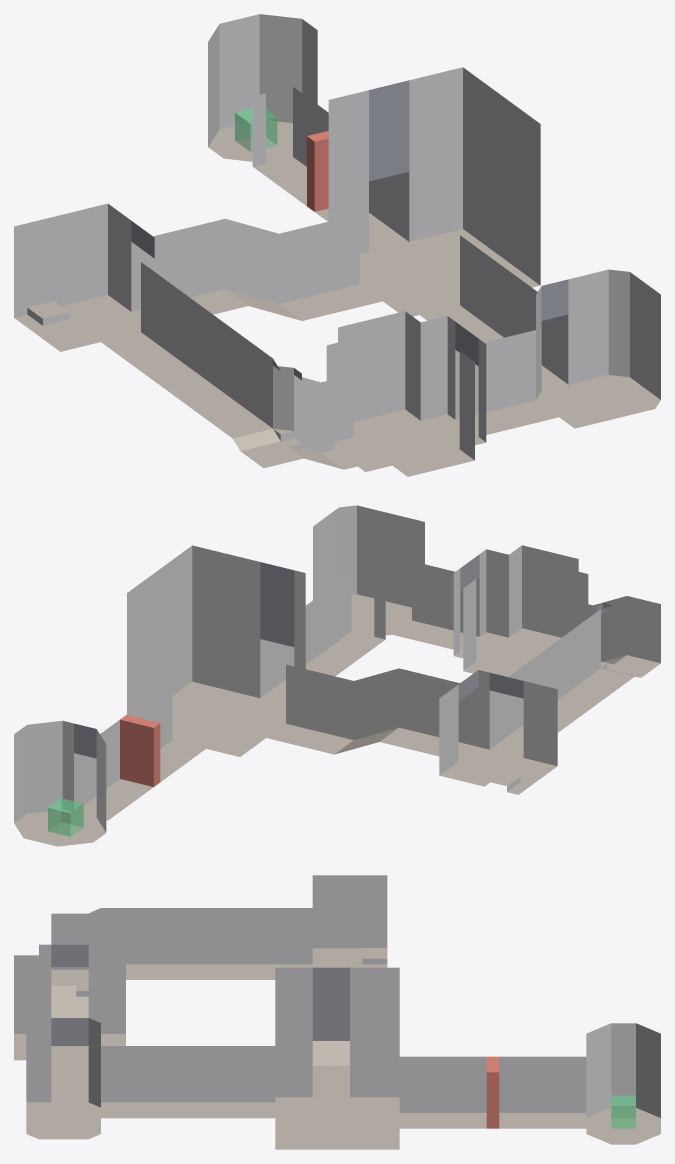
File: habitat_07.glb
3 views of the same model, one above another, from view 1: azimuth 30°, elevation 25°; view 2: azimuth 150°, elevation 25°; view 3: azimuth 270°, elevation 25° (orthographic). The views are drawn at different scales.
Parts seen in each view (by area): view 1: corridor:3, room:1, corridor:2, room:0, room:3, room:2, corridor:0, corridor:1, entities; view 2: corridor:3, room:1, corridor:2, room:0, room:2, room:3, corridor:0, corridor:1, entities; view 3: corridor:3, room:1, corridor:1, corridor:0, room:2, room:3, room:0, corridor:2, entities.
Boxes of the visible parts, x1,y1,x2,y2 form: corridor:3: [101, 262, 558, 476]; room:1: [328, 67, 540, 316]; corridor:2: [131, 214, 382, 320]; room:0: [536, 269, 660, 428]; room:3: [14, 203, 154, 351]; room:2: [208, 14, 317, 163]; corridor:0: [420, 235, 568, 390]; corridor:1: [252, 87, 409, 251]; entities: [235, 108, 328, 211]; corridor:3: [392, 545, 660, 757]; room:1: [127, 545, 305, 756]; corridor:2: [267, 664, 478, 760]; room:0: [313, 505, 424, 636]; room:2: [14, 720, 106, 846]; room:3: [439, 670, 557, 794]; corridor:0: [260, 572, 385, 704]; corridor:1: [74, 681, 205, 820]; entities: [48, 715, 160, 836]; corridor:3: [14, 908, 312, 1102]; room:1: [275, 967, 399, 1149]; corridor:1: [399, 1056, 586, 1128]; corridor:0: [101, 1046, 275, 1118]; room:2: [586, 1023, 660, 1144]; room:3: [312, 875, 387, 967]; room:0: [26, 1018, 100, 1139]; corridor:2: [312, 1041, 349, 1097]; entities: [486, 1056, 635, 1128].
Size of the model in its own units: 34 by 11.5 by 52.
